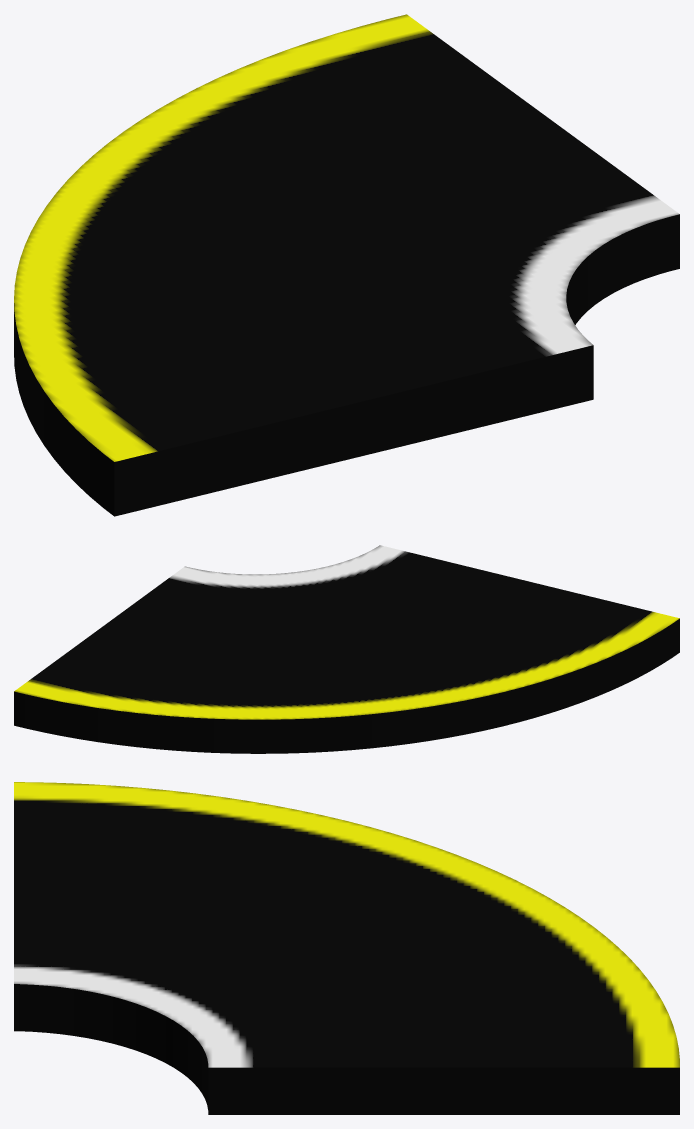
Rendered from Panel_R01_C01__Road_01.dae.
3 renders of one model, top to bottom at view 1: azimuth 30°, elevation 25°; view 2: azimuth 150°, elevation 25°; view 3: azimuth 270°, elevation 25°, orthographic. The views are drawn at different scales.
Visible parts, largest first — view 1: Object; view 2: Object; view 3: Object.
Part boxes in pixels (x1,y1,x2,y2): Object: (14, 14, 679, 516); Object: (14, 545, 679, 753); Object: (14, 782, 679, 1114).
Size of the model in its own units: 0.3901 by 0.3843 by 0.03.
Materials: 2 (1 with a texture image).
